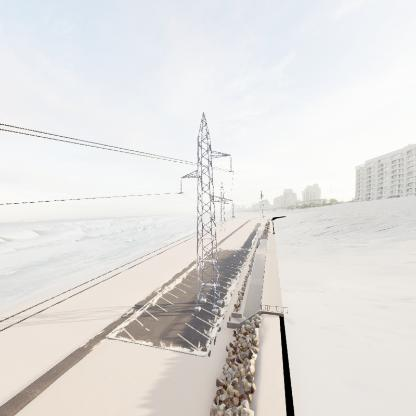tower: (178, 107, 239, 310)
